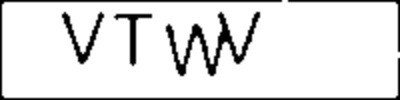T: (113, 11, 157, 72)
V: (56, 10, 108, 68), (213, 9, 263, 66)
W: (161, 20, 229, 78)
